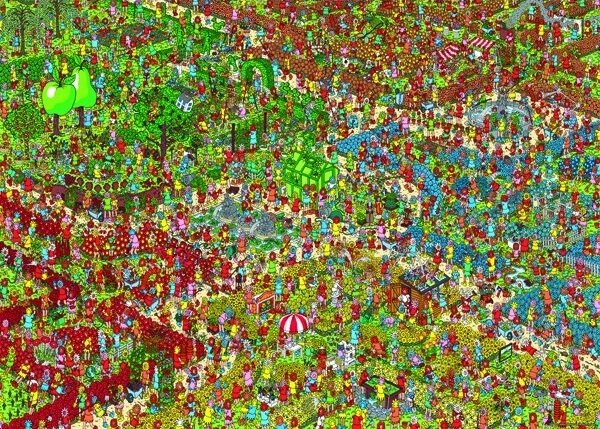Waldo: (40, 17, 44, 23)
